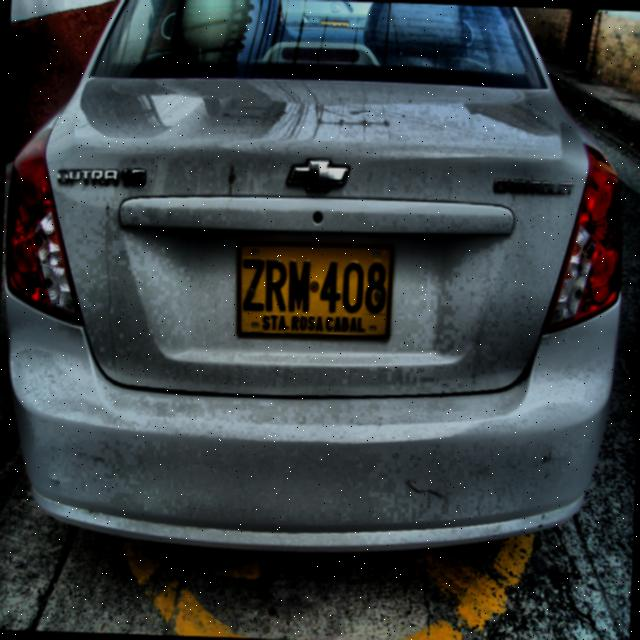plate: (237, 239, 394, 339)
